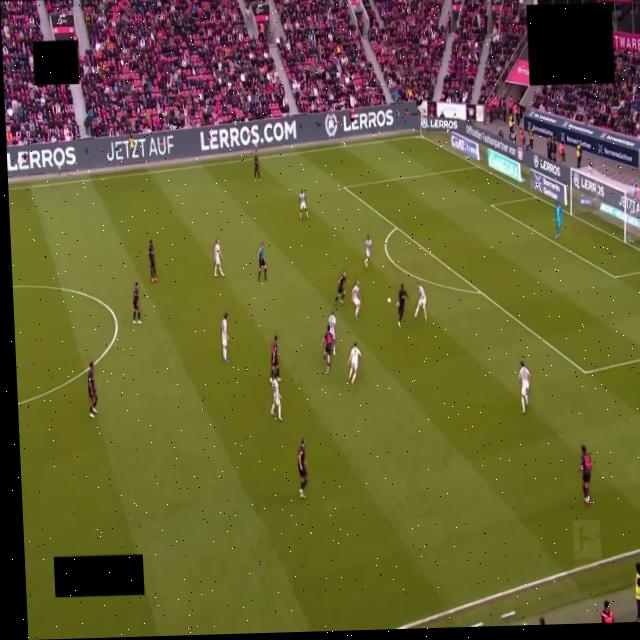ball: (388, 298, 391, 303)
player: (518, 361, 531, 413), (580, 446, 591, 503), (348, 342, 361, 383), (298, 440, 307, 499), (88, 362, 97, 418), (322, 327, 333, 372), (271, 378, 282, 421), (415, 285, 427, 323), (398, 284, 408, 328), (270, 336, 280, 380), (148, 240, 157, 283), (334, 271, 346, 303), (328, 311, 336, 355), (352, 281, 361, 320), (214, 239, 223, 276), (554, 203, 563, 239), (133, 283, 141, 323), (222, 313, 228, 362), (364, 235, 372, 268), (299, 190, 308, 219), (253, 150, 260, 182)
referee: (258, 244, 267, 280)
